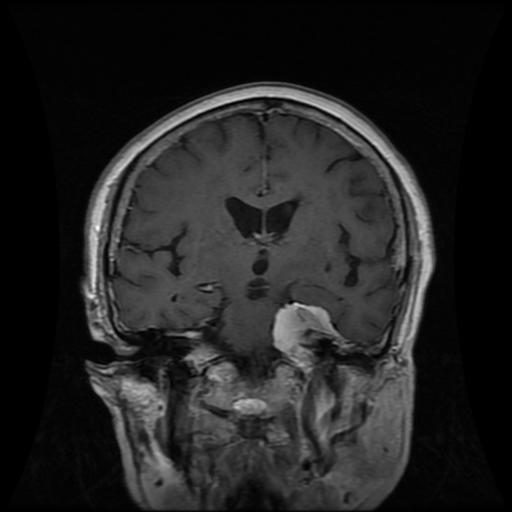Menigiomia_tumour: (271, 300, 337, 370)
